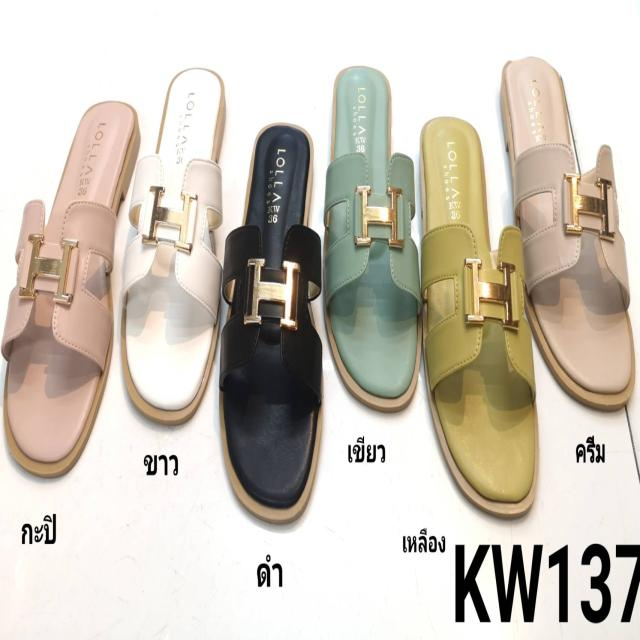black: (222, 123, 314, 517)
cream: (505, 59, 635, 409)
green: (326, 66, 420, 402)
kapi: (7, 98, 135, 469)
white: (124, 71, 218, 419)
yellow: (415, 115, 536, 503)
